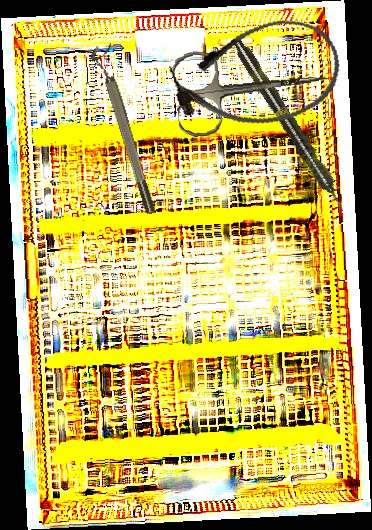Cannula: (163, 9, 350, 142)
Fixation Ring: (88, 42, 159, 218)
Handpiece: (227, 33, 351, 216)
Iris Scissors: (171, 37, 334, 139)
